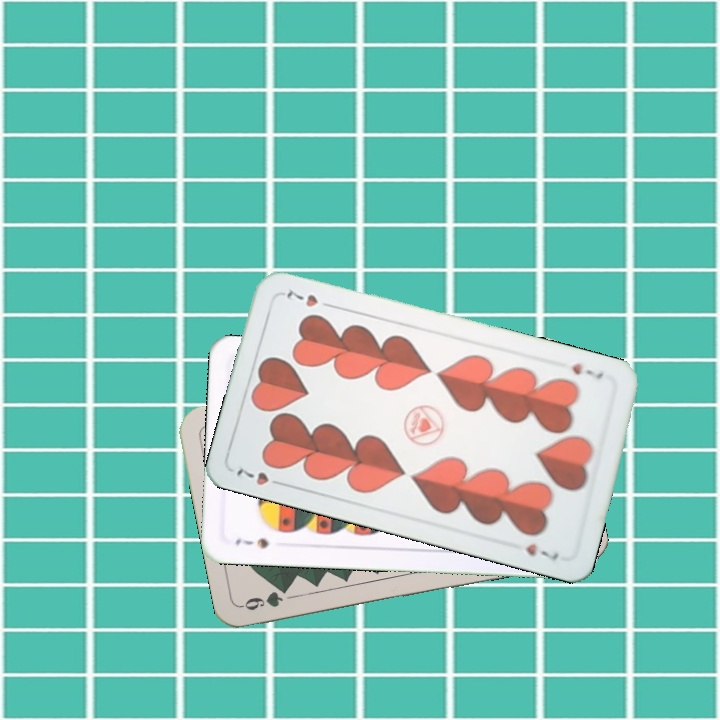G9: (238, 587, 285, 613)
H7: (232, 463, 288, 489), (568, 359, 606, 383)
S7: (231, 534, 271, 551)
